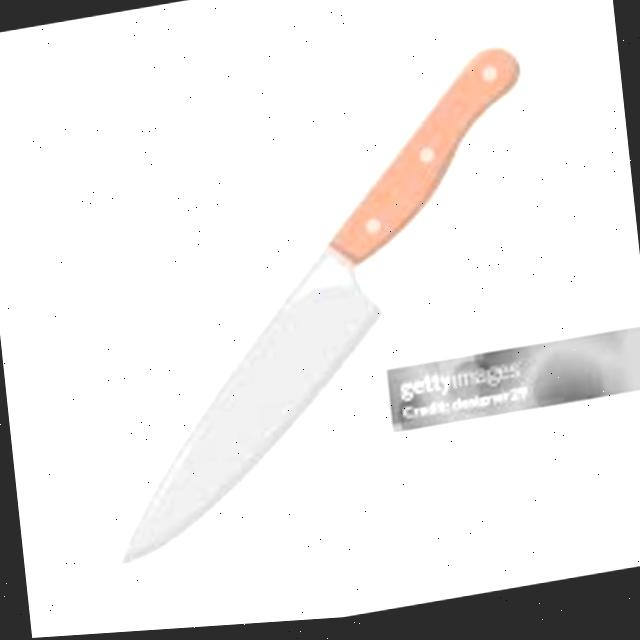knife: (71, 45, 564, 568)
